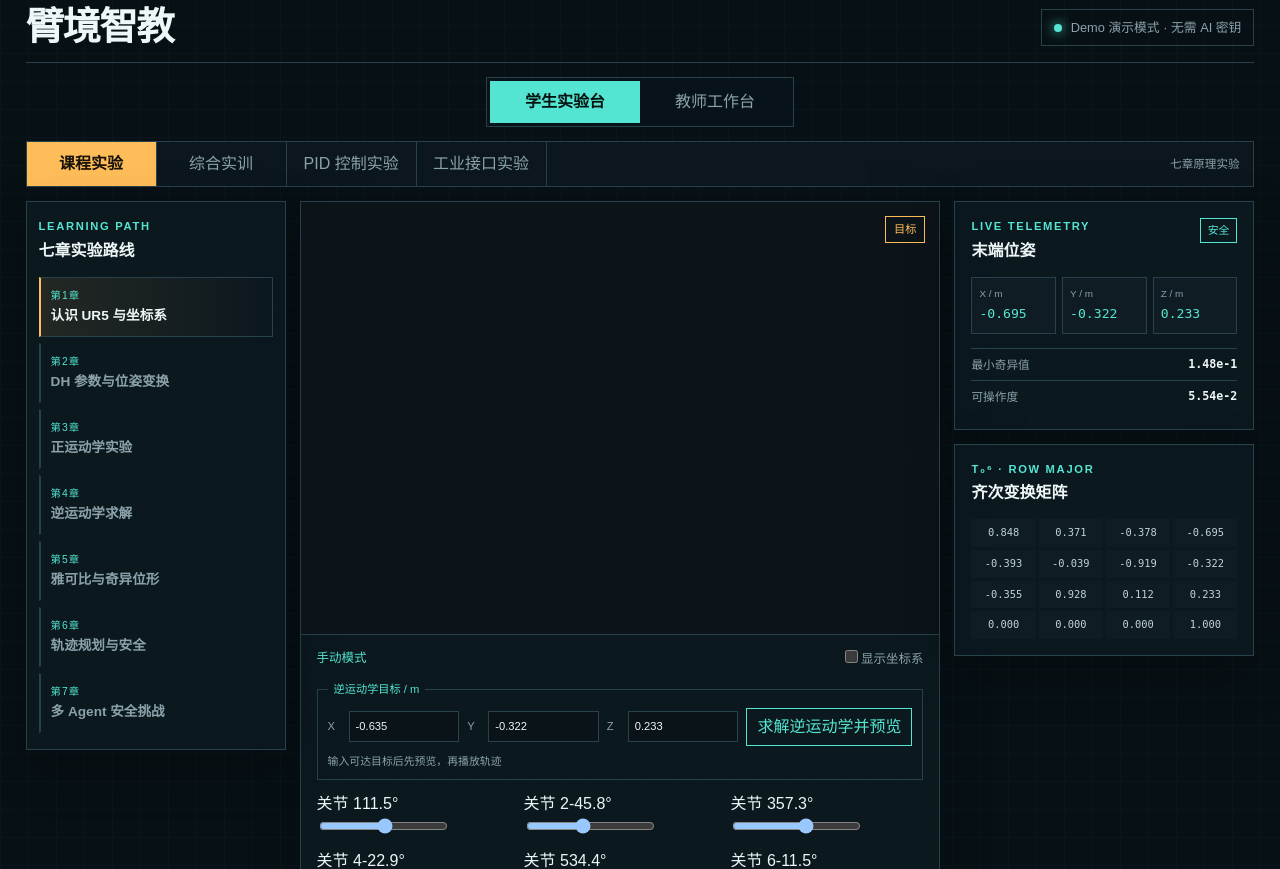
it: project foundation › opens the PID control experiment from the student workspace
Click the button "PID 控制实验" at (352, 164), box x1=287 y1=142 x2=417 y2=186
(page scrolled)
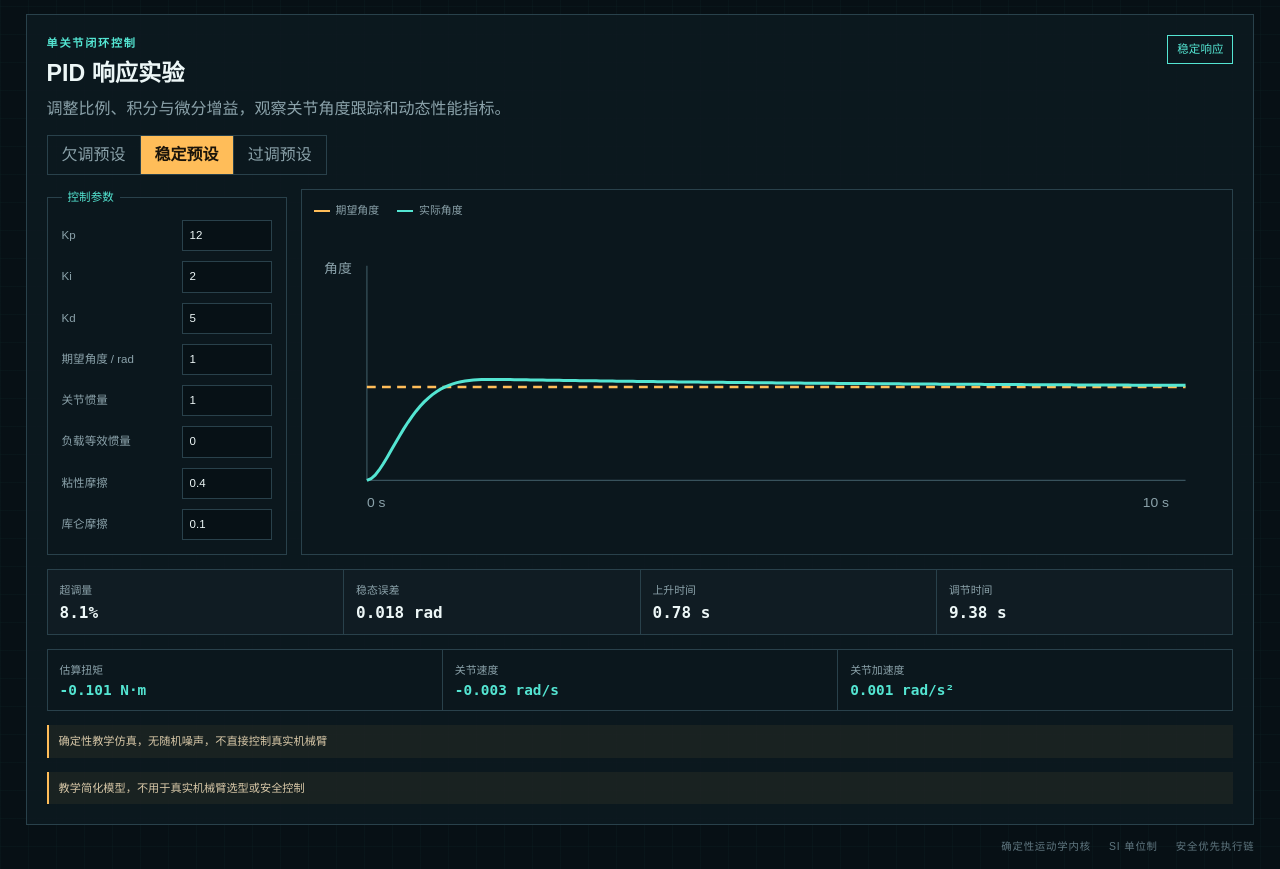
Result: the element named "PID 单关节控制实验" is shown
